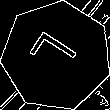L_SE: (27, 29, 86, 83)
